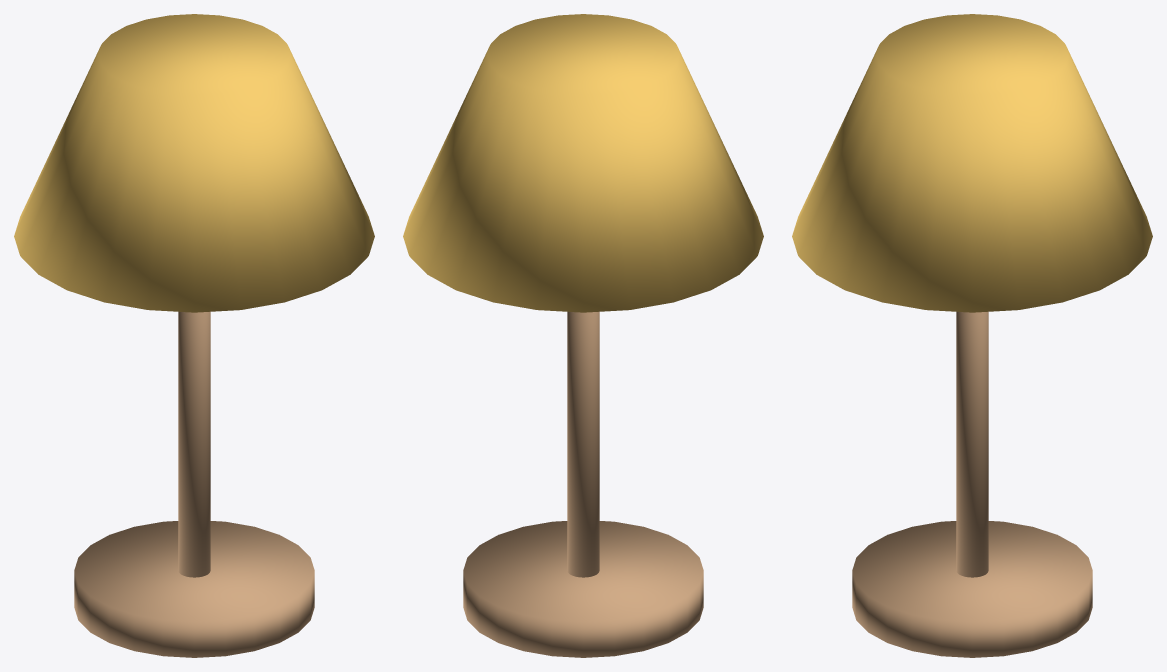
Rendered from word-light.glb.
3 views of the same model, side by side, from view 1: azimuth 30°, elevation 25°; view 2: azimuth 150°, elevation 25°; view 3: azimuth 270°, elevation 25° (orthographic).
Parts seen in each view (by area): view 1: lampshade, lamp foot, lamp stem; view 2: lampshade, lamp foot, lamp stem; view 3: lampshade, lamp foot, lamp stem.
Part boxes in pixels (x1,y1,x2,y2): lampshade: (14, 14, 374, 312); lamp foot: (74, 521, 314, 657); lamp stem: (178, 311, 210, 577); lampshade: (403, 14, 763, 312); lamp foot: (463, 521, 703, 657); lamp stem: (567, 311, 599, 577); lampshade: (792, 14, 1152, 312); lamp foot: (852, 521, 1092, 657); lamp stem: (956, 311, 988, 577).
Bounding box in the file's own units: 0.9 × 1.52 × 0.9.
